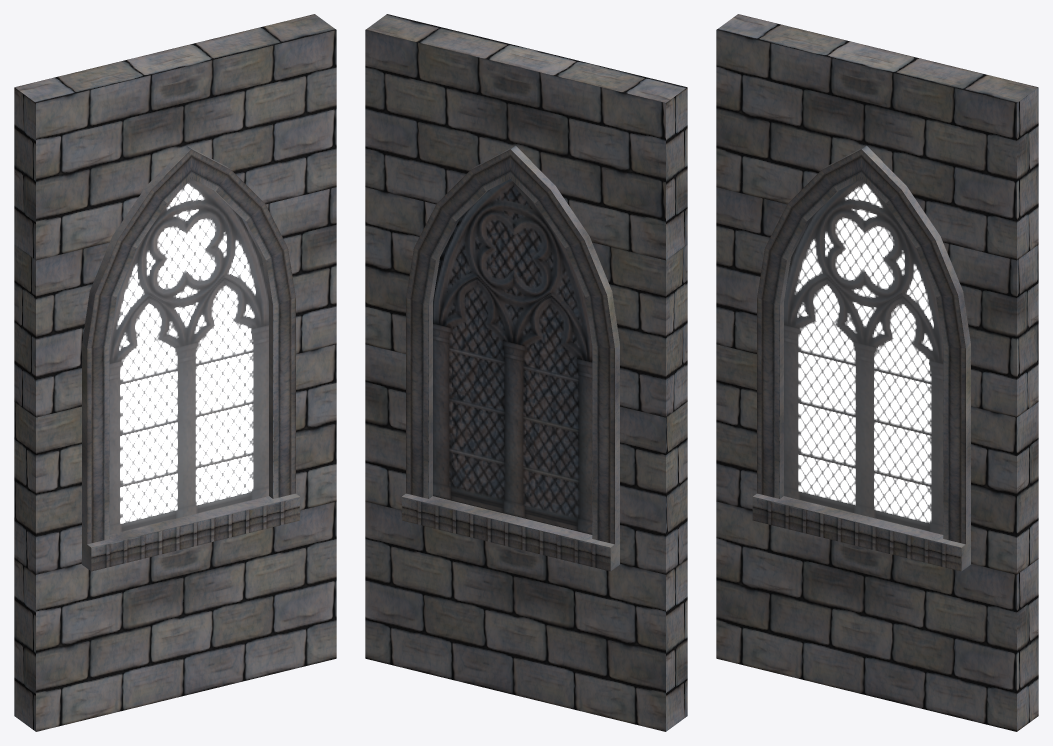
Rendered from wall_window_01.glb.
3 renders of one model, left to right at view 1: azimuth 30°, elevation 25°; view 2: azimuth 150°, elevation 25°; view 3: azimuth 330°, elevation 25°, orthographic.
Visible parts, largest first — view 1: wall_window_01; view 2: wall_window_01; view 3: wall_window_01.
Boxes of the visible parts, x1,y1,x2,y2 form: wall_window_01: (14, 14, 336, 731); wall_window_01: (365, 14, 687, 731); wall_window_01: (716, 14, 1038, 731).
Bounding box in the file's own units: 8 × 16 × 1.87.
2 materials, 2 textured.
